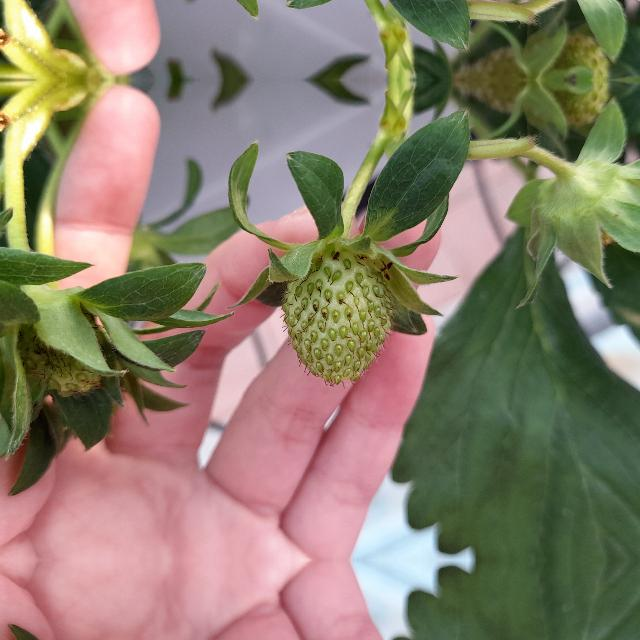Health_25: (279, 244, 393, 386), (10, 306, 110, 402)
